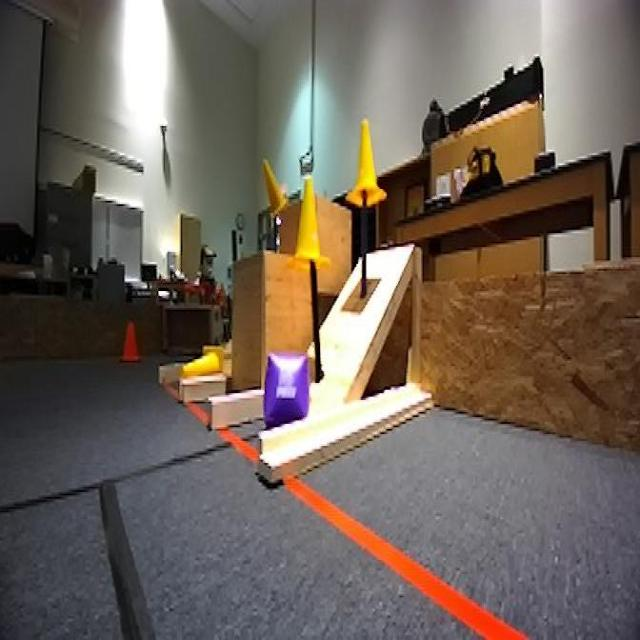frc_cone: (290, 175, 330, 276), (348, 116, 388, 209), (180, 339, 227, 381), (264, 164, 288, 222)
frc_cube: (259, 346, 311, 436)
